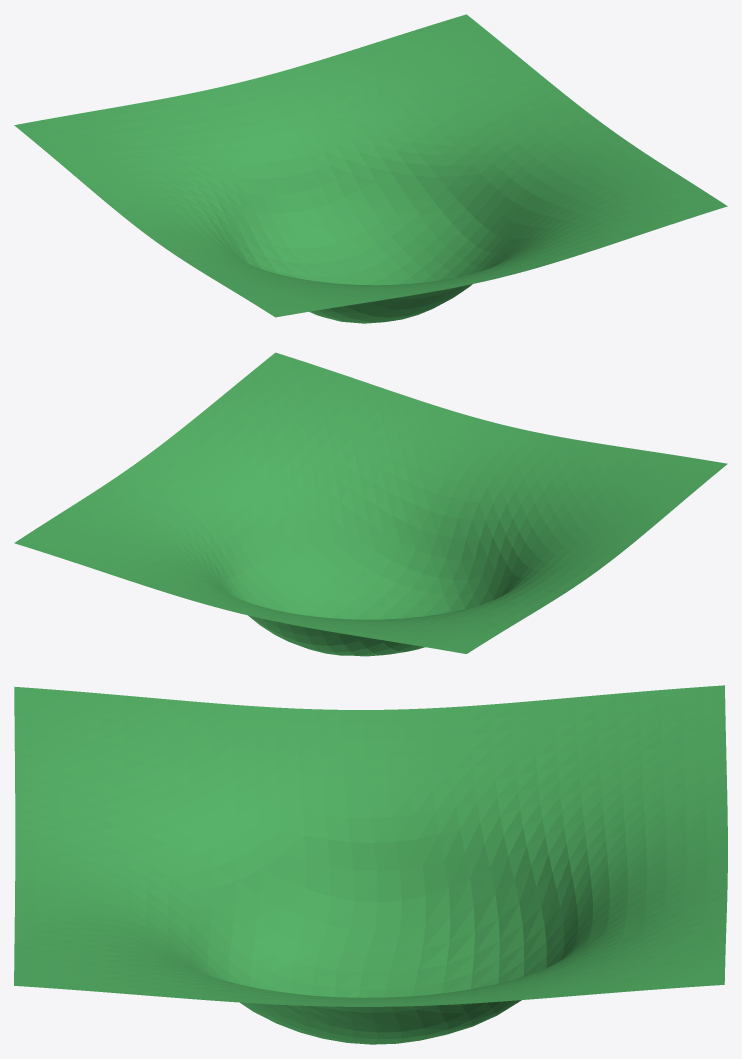
The model's file is TerrainToSimulate.fbx.
3 views of the same model, one above another, from view 1: azimuth 30°, elevation 25°; view 2: azimuth 150°, elevation 25°; view 3: azimuth 270°, elevation 25° (orthographic). The views are drawn at different scales.
Visible parts, largest first — view 1: Plane; view 2: Plane; view 3: Plane.
Boxes of the visible parts, x1,y1,x2,y2 form: Plane: [14, 14, 727, 323]; Plane: [14, 352, 727, 656]; Plane: [14, 685, 727, 1044].
Size of the model in its own units: 809 by 230 by 805.
